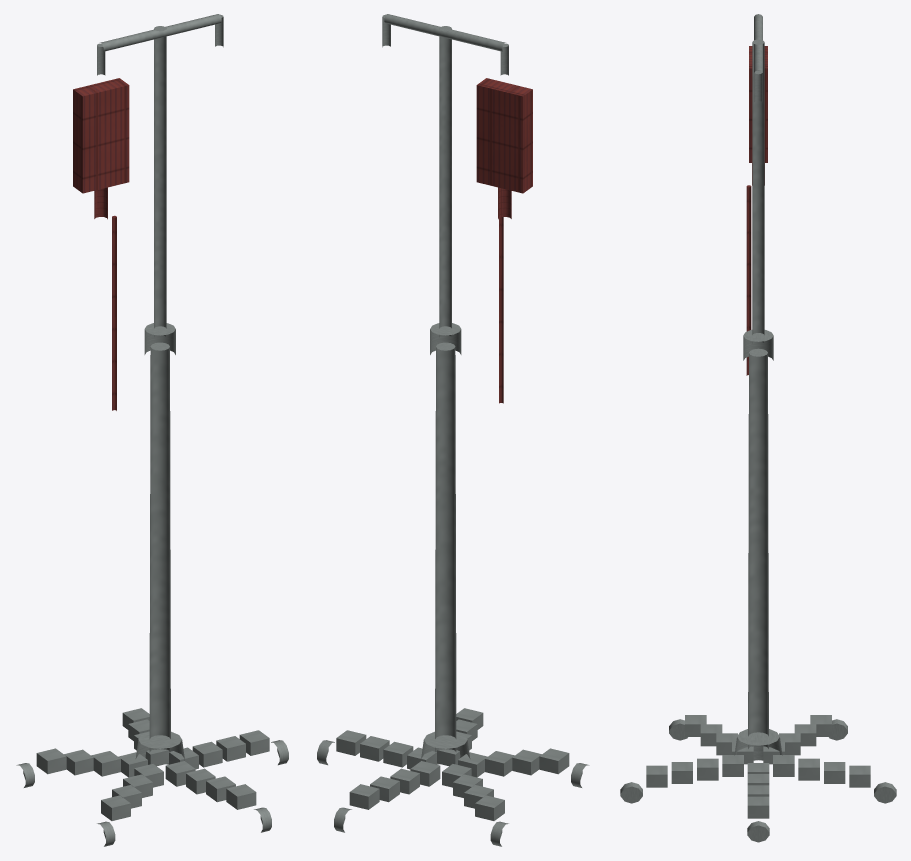
File: iv-stand.glb
The picture shows the model from 3 angles, left to right: view 1: azimuth 30°, elevation 25°; view 2: azimuth 150°, elevation 25°; view 3: azimuth 270°, elevation 25°; orthographic projection. The views are drawn at different scales.
Parts seen in each view (by area): view 1: iv-stand; view 2: iv-stand; view 3: iv-stand.
Boxes of the visible parts, x1,y1,x2,y2 form: iv-stand: (16,14,288,846); iv-stand: (317,14,589,846); iv-stand: (620,14,896,842).
Bounding box in the file's own units: 0.5285 × 1.73 × 0.5801.
Materials: 2 (2 with a texture image).
